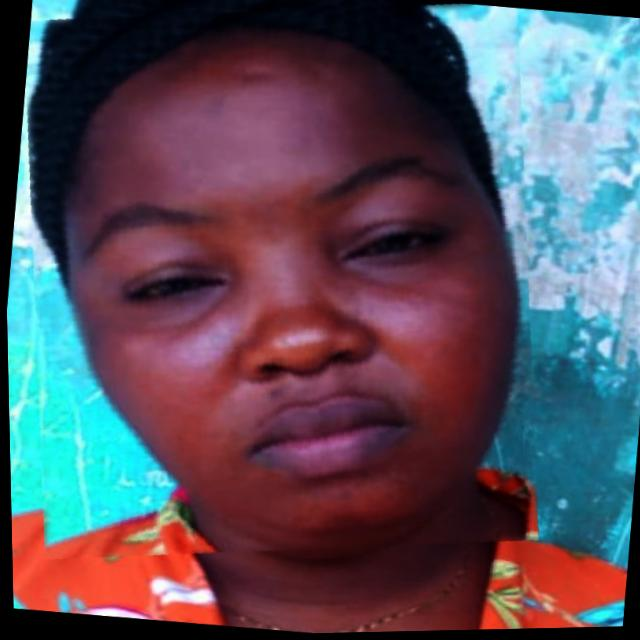sad: (0, 0, 575, 595)
